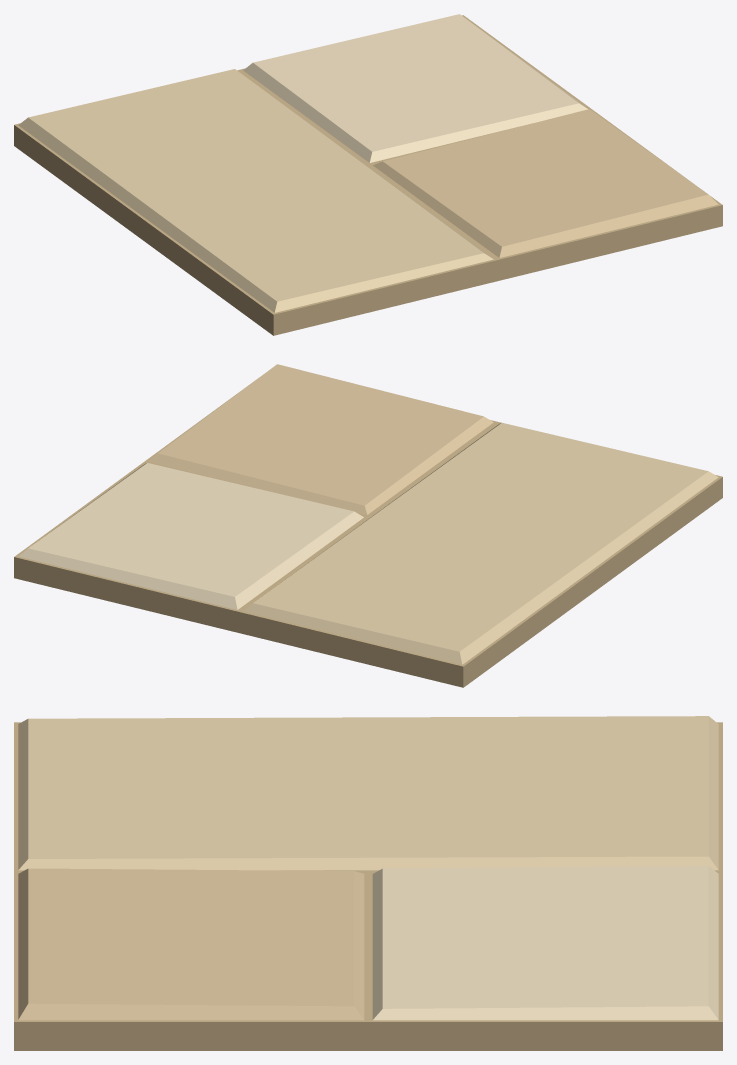
Rendered from paving_tile_b.glb.
The picture shows the model from 3 angles, top to bottom: view 1: azimuth 30°, elevation 25°; view 2: azimuth 150°, elevation 25°; view 3: azimuth 270°, elevation 25°; orthographic projection. The views are drawn at different scales.
Parts seen in each view (by area): view 1: paving_tile_b; view 2: paving_tile_b; view 3: paving_tile_b.
Boxes of the visible parts, bbox=[...] form: paving_tile_b: bbox=[14, 14, 722, 335]; paving_tile_b: bbox=[14, 364, 722, 687]; paving_tile_b: bbox=[14, 716, 722, 1050].
Bounding box in the file's own units: 1 × 0.064 × 1.
